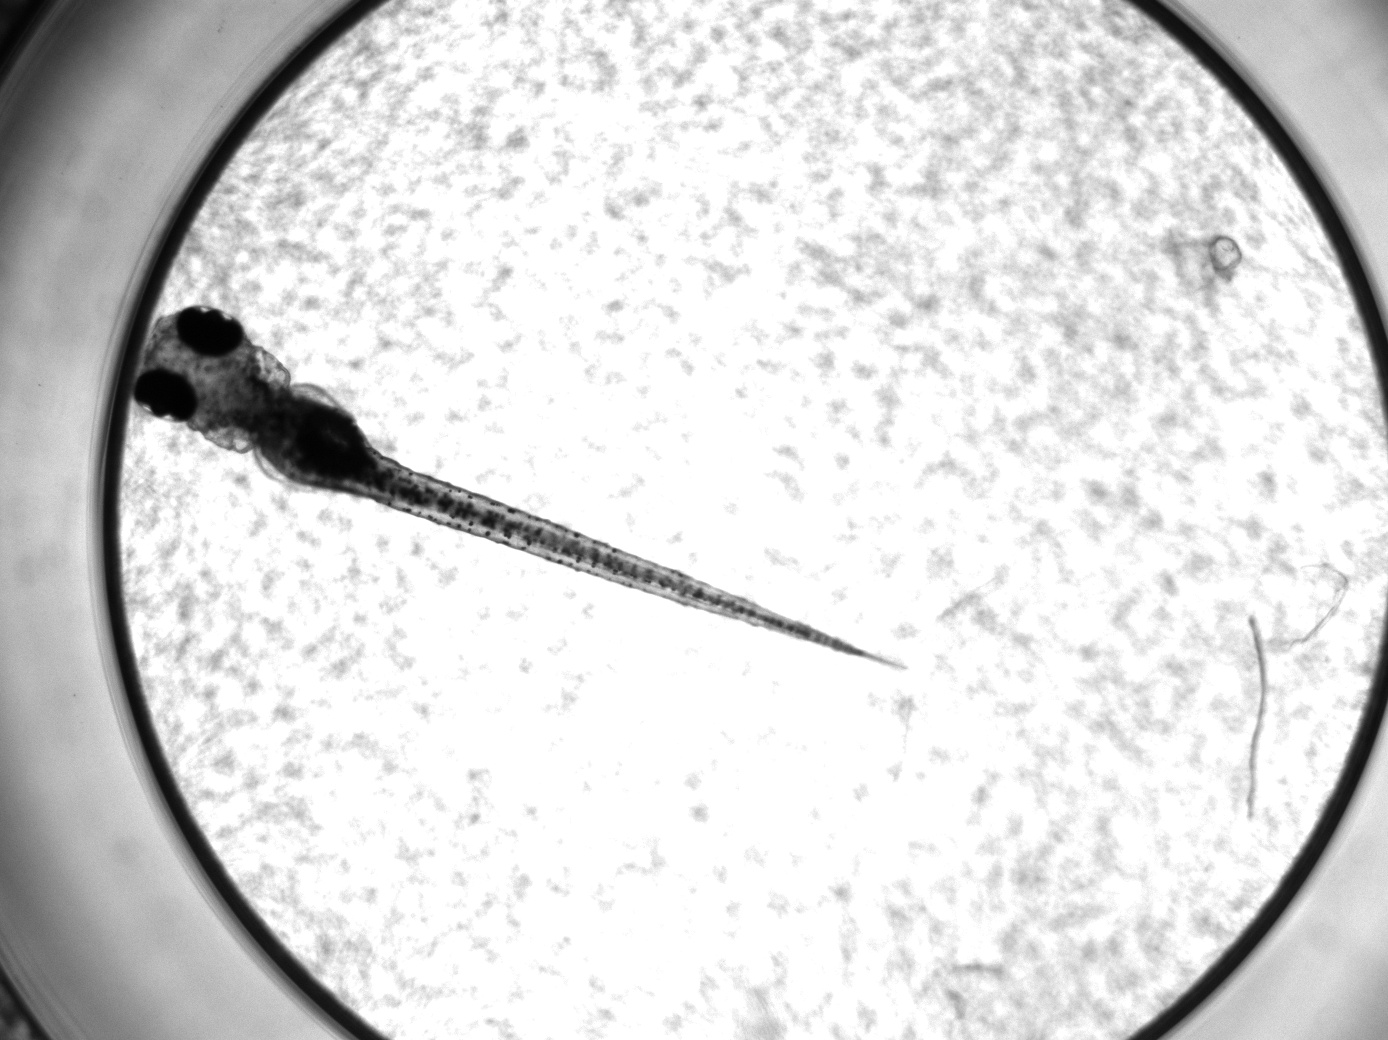embryo: (134, 305, 915, 672)
eye: (133, 366, 198, 422), (175, 305, 241, 356)
yolksac: (256, 385, 387, 505)
